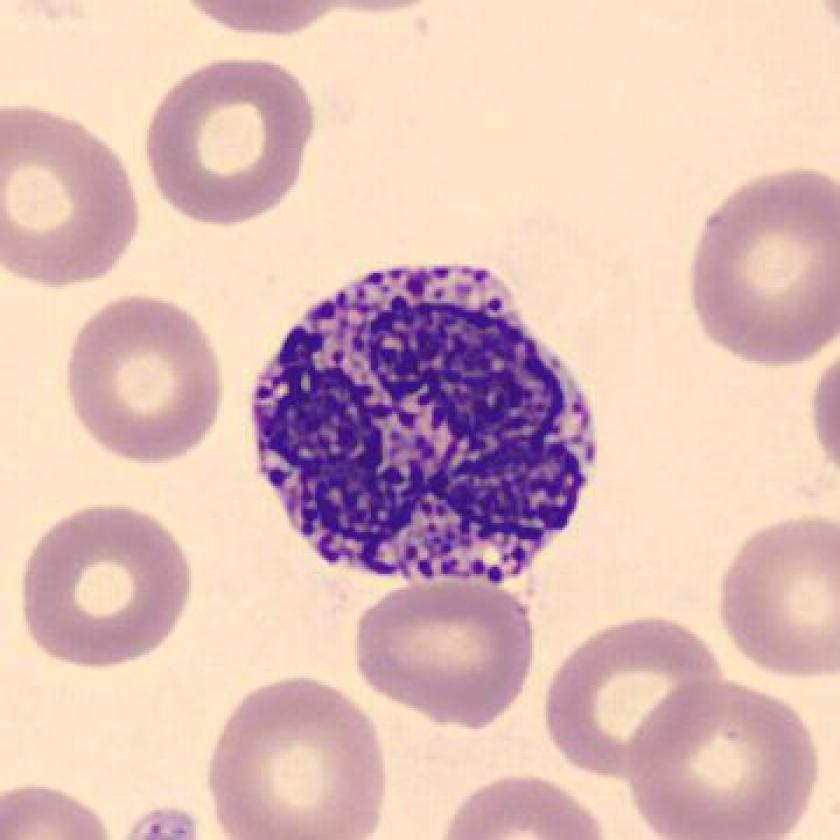basophil: (237, 244, 612, 598)
